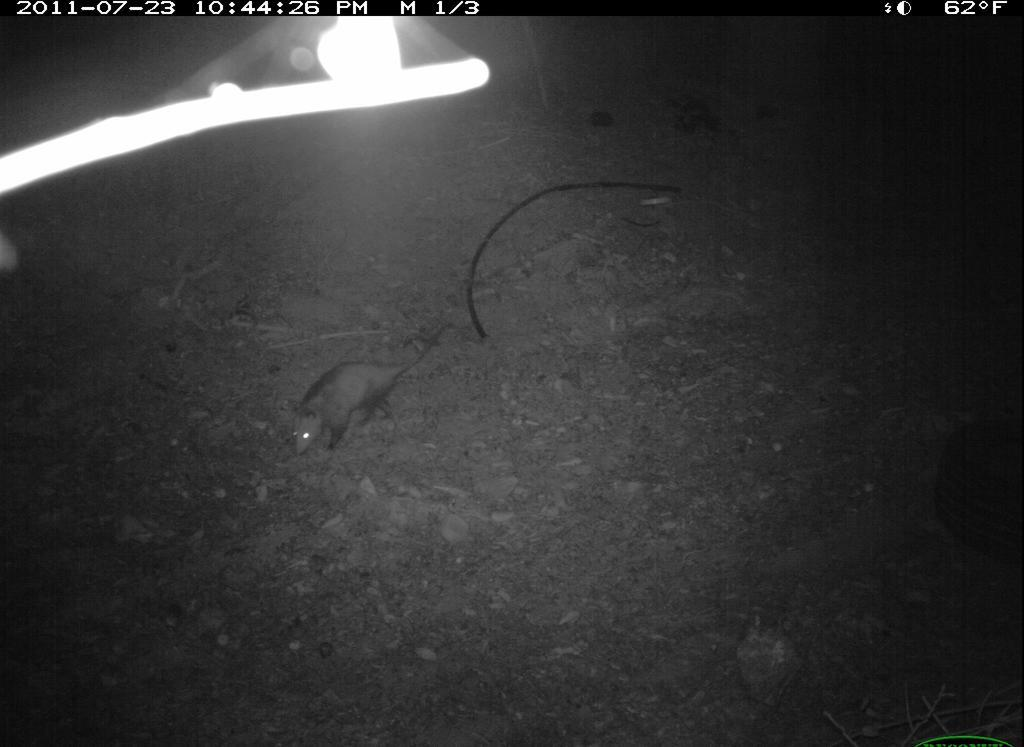opossum: (285, 321, 460, 464)
